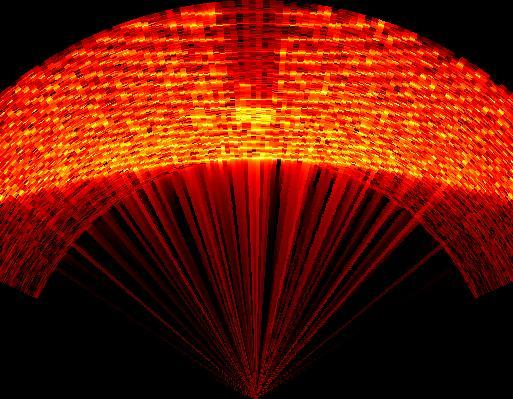box_crate: (218, 5, 288, 129)
